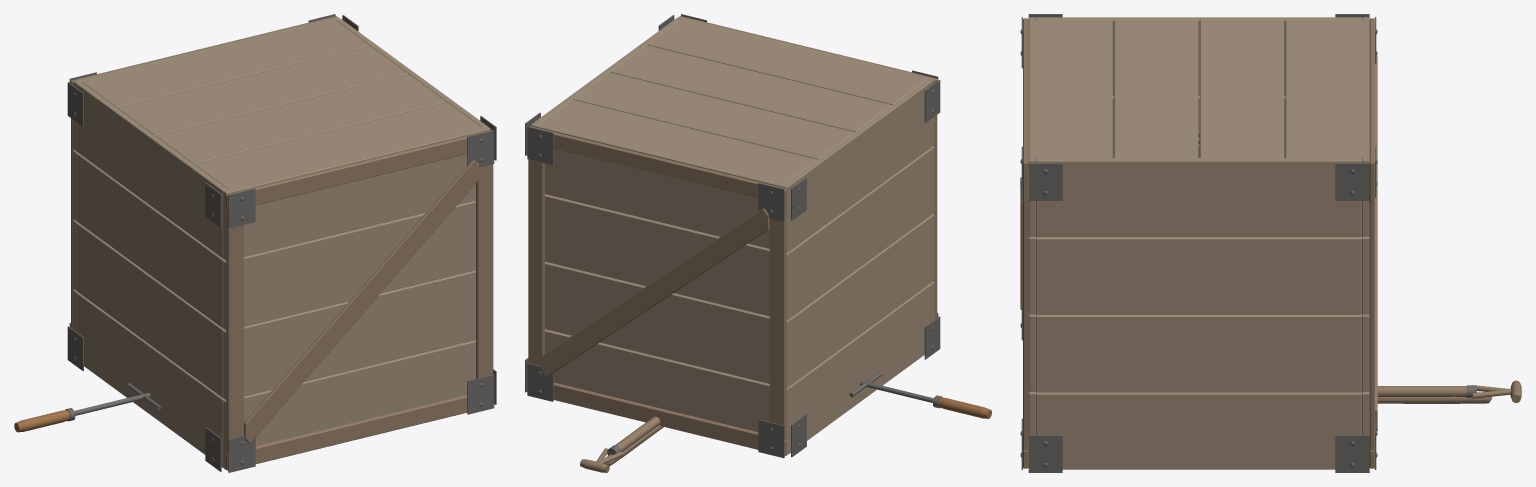
The model's file is smelter_kit.glb.
3 renders of one model, left to right at view 1: azimuth 30°, elevation 25°; view 2: azimuth 150°, elevation 25°; view 3: azimuth 270°, elevation 25°, orthographic. The views are drawn at different scales.
Parts seen in each view (by area): view 1: Kit_Crate_geo, Kit_Ladle_geo; view 2: Kit_Crate_geo, Kit_Ladle_geo, Kit_Shovel_geo; view 3: Kit_Crate_geo, Kit_Shovel_geo, Kit_Pick_geo.
Part boxes in pixels (<box>): Kit_Crate_geo: <box>67,14,496,472</box>; Kit_Ladle_geo: <box>14,383,161,432</box>; Kit_Crate_geo: <box>525,14,940,458</box>; Kit_Ladle_geo: <box>849,371,991,418</box>; Kit_Shovel_geo: <box>580,416,660,472</box>; Kit_Crate_geo: <box>1020,14,1377,472</box>; Kit_Shovel_geo: <box>1377,380,1521,402</box>; Kit_Pick_geo: <box>1377,396,1465,403</box>.
Size of the model in its own units: 1.52 by 1.12 by 1.47.
